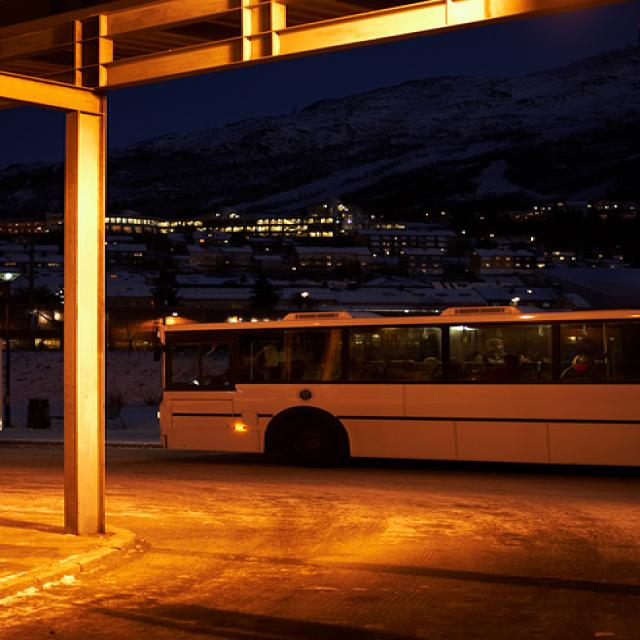Bus: (123, 296, 640, 511)
